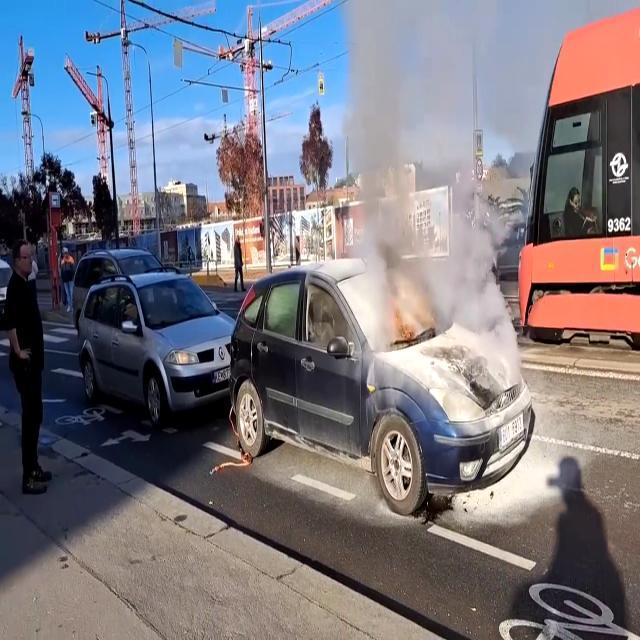Smoke: (321, 0, 514, 352)
